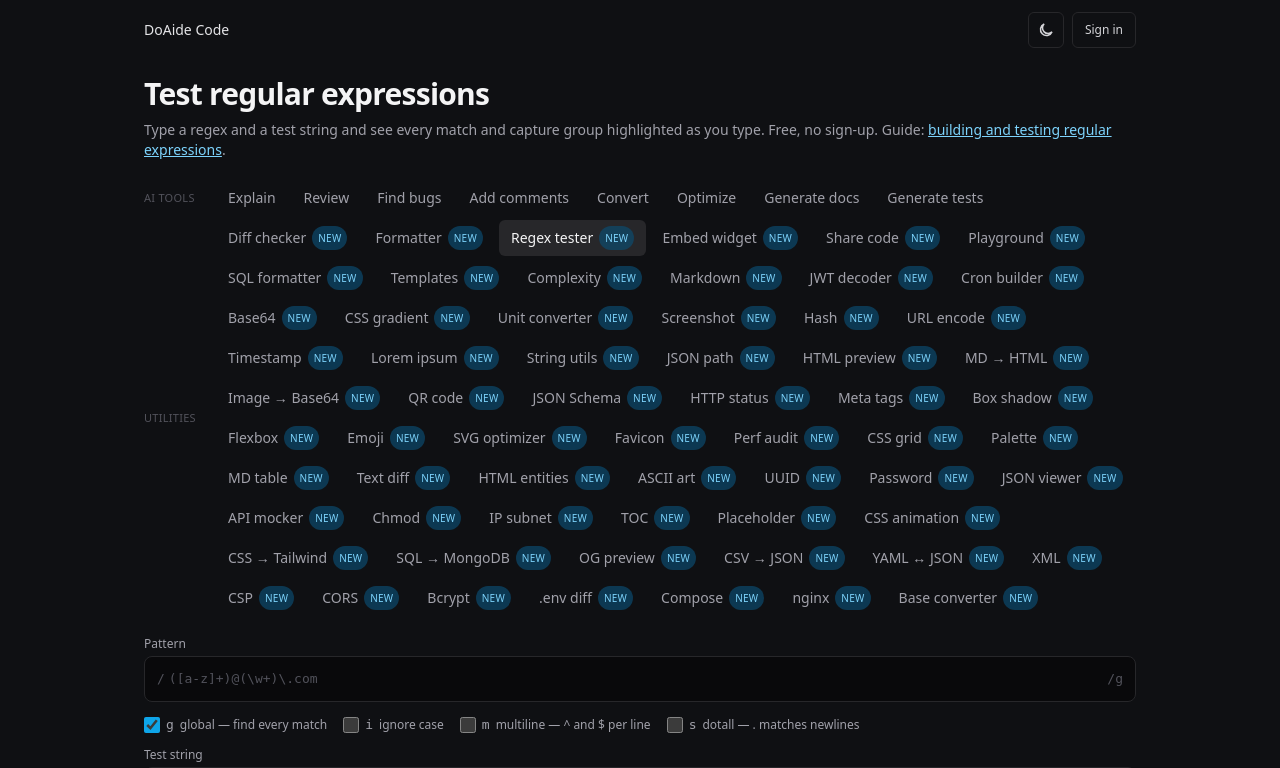
Test: RegexPage › reports an invalid pattern
The width and height of the screenshot is (1280, 768).
Type "(bad" into the field with test id "rx-pattern". click: (636, 679)
box: [165, 657, 1107, 701]
(page scrolled)
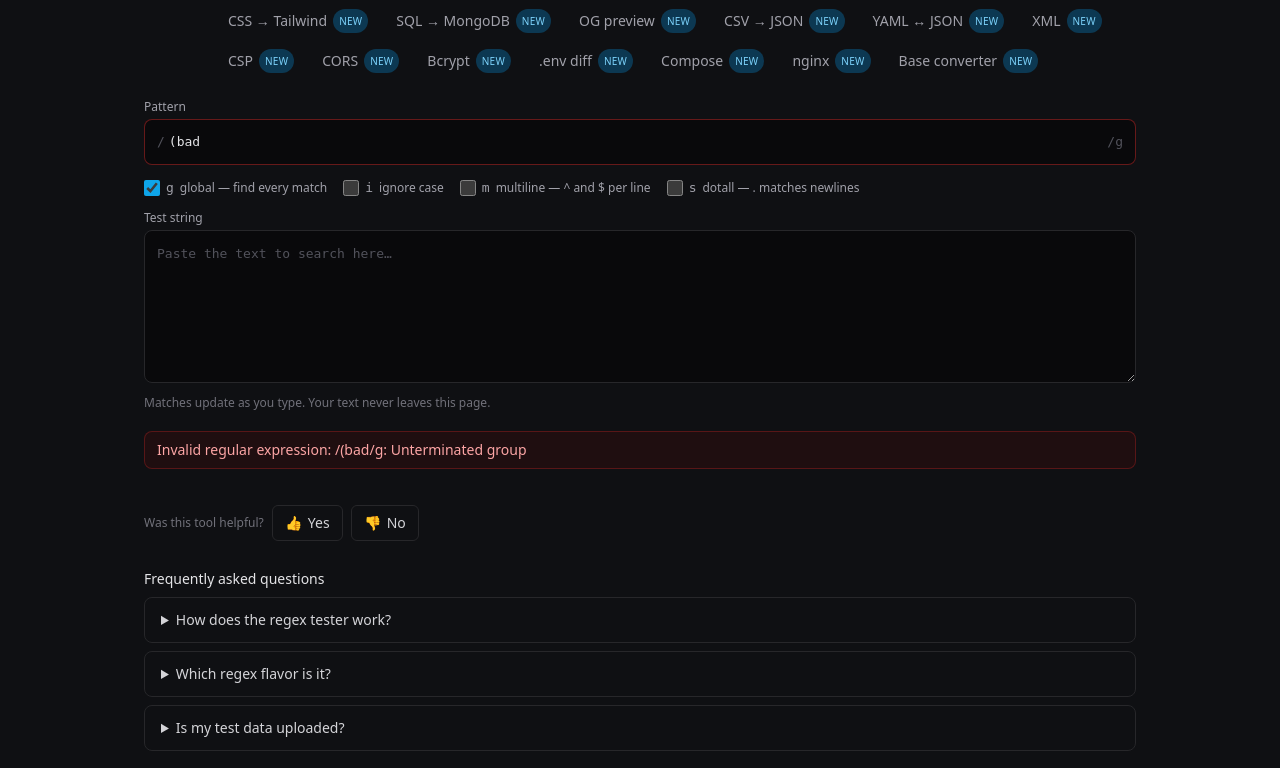
Expected: the message with test id "rx-error" shows "Invalid regular expression", [157, 440, 526, 459]
